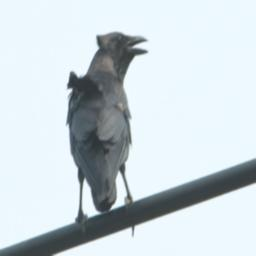Crow: (66, 25, 149, 241)
